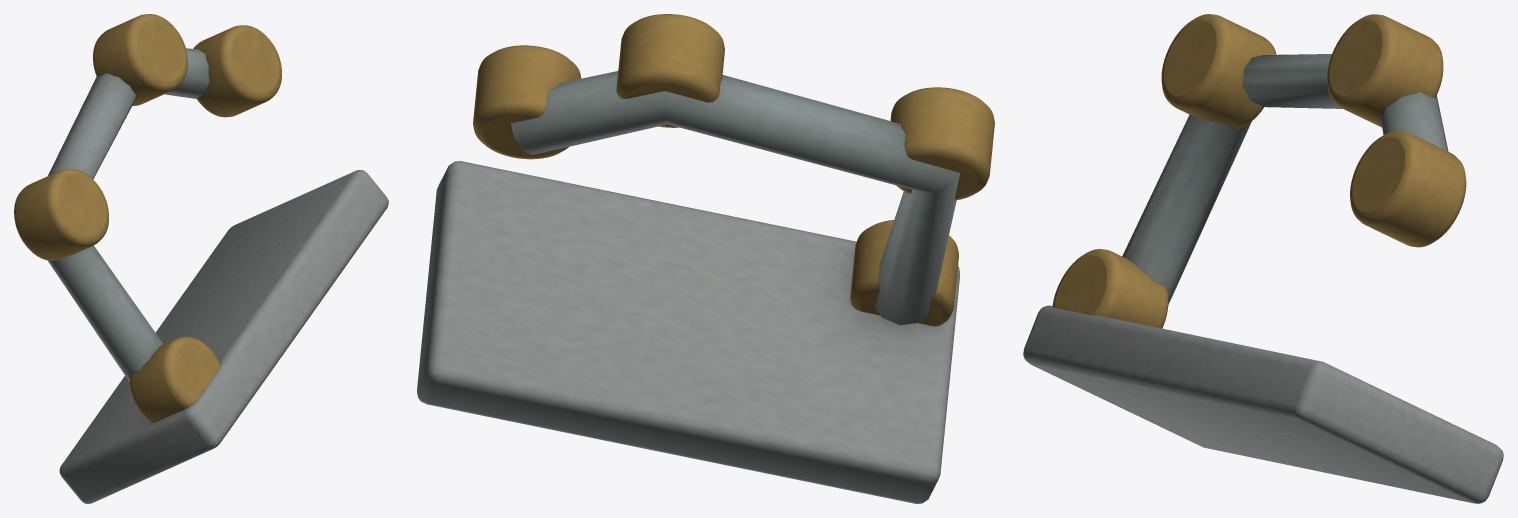
3 renders of one model, left to right at view 1: azimuth 30°, elevation 25°; view 2: azimuth 150°, elevation 25°; view 3: azimuth 270°, elevation 25°, orthographic. The views are drawn at different scales.
Parts seen in each view (by area): view 1: Arm installation foot; view 2: Arm installation foot; view 3: Arm installation foot.
Boxes of the visible parts, bbox=[...] form: Arm installation foot: bbox=[14, 14, 388, 503]; Arm installation foot: bbox=[417, 14, 994, 503]; Arm installation foot: bbox=[1023, 14, 1503, 503].
Bounding box in the file's own units: 1.19 × 1.14 × 0.9888.
1 material, 1 textured.
